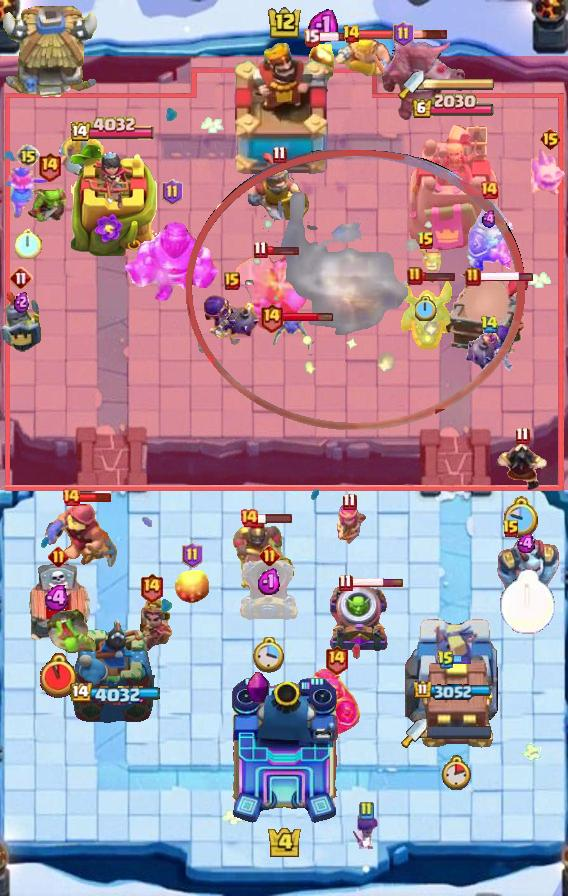archer: (331, 502, 367, 550)
bar: (479, 270, 534, 283), (350, 577, 404, 588), (281, 312, 334, 323), (318, 31, 355, 43), (412, 28, 449, 40), (257, 512, 293, 524), (265, 244, 300, 256), (358, 29, 394, 40), (421, 271, 456, 282), (78, 492, 112, 503), (453, 654, 472, 665)
bar-level: (324, 644, 349, 675), (139, 572, 164, 603), (259, 302, 284, 333), (37, 151, 62, 182), (9, 266, 33, 290), (16, 144, 40, 168), (539, 127, 562, 151), (182, 542, 203, 568), (162, 179, 183, 205), (393, 21, 414, 47), (48, 546, 69, 567), (259, 545, 280, 566), (239, 508, 259, 528), (61, 487, 81, 507), (479, 180, 499, 200), (342, 24, 361, 44), (480, 315, 499, 334), (437, 650, 455, 670), (502, 519, 520, 539), (417, 231, 435, 251), (303, 28, 320, 47), (358, 801, 374, 821), (465, 267, 481, 287), (407, 266, 423, 286), (224, 272, 240, 290), (338, 573, 353, 592), (342, 492, 357, 511), (515, 426, 530, 445), (253, 240, 268, 259), (272, 145, 287, 164)
barbarian: (334, 36, 392, 80)
bat-evolution: (268, 314, 312, 354)
bomber-evolution: (202, 293, 262, 349), (462, 323, 516, 373)
clock: (499, 569, 556, 635), (40, 653, 77, 698), (504, 496, 540, 538), (253, 637, 285, 674), (441, 755, 471, 790), (15, 228, 42, 259), (415, 296, 437, 321)
dagger-duchess-tower: (406, 122, 500, 256), (405, 611, 501, 731)
dagger-duchess-tower-bar: (424, 77, 496, 91), (427, 726, 491, 739)
electro-dragon: (398, 277, 456, 351)
electro-wizard: (495, 441, 549, 493)
elite-barbarian: (58, 133, 106, 176)
elixir: (308, 7, 338, 42), (44, 585, 72, 611), (257, 568, 282, 596), (517, 534, 537, 553), (14, 291, 29, 313), (481, 210, 498, 228)
evolution-symbol: (247, 671, 269, 705)
fire-spirit: (307, 36, 339, 80)
goblin: (27, 182, 71, 224)
goblin-ball: (46, 608, 100, 656)
guard: (0, 289, 44, 355)
ice-spirit-evolution: (528, 146, 568, 198)
king-tower: (228, 676, 340, 826), (228, 41, 340, 181)
knight-evolution: (311, 666, 362, 735), (466, 203, 513, 271)
lava-pup: (410, 242, 442, 274)
little-prince: (130, 598, 173, 654)
mega-minion: (493, 530, 561, 596)
mortar: (238, 556, 300, 624)
mortar-evolution: (326, 584, 390, 654)
phoenix-egg: (175, 566, 209, 604)
queen-tower: (70, 616, 158, 731), (71, 145, 157, 256)
royal-recruit: (248, 153, 310, 229)
skeleton-evolution: (350, 812, 382, 852)
tower-bar: (71, 116, 157, 144), (411, 93, 495, 120), (68, 683, 160, 706), (414, 680, 492, 700)
valkyrie: (4, 166, 52, 220)
